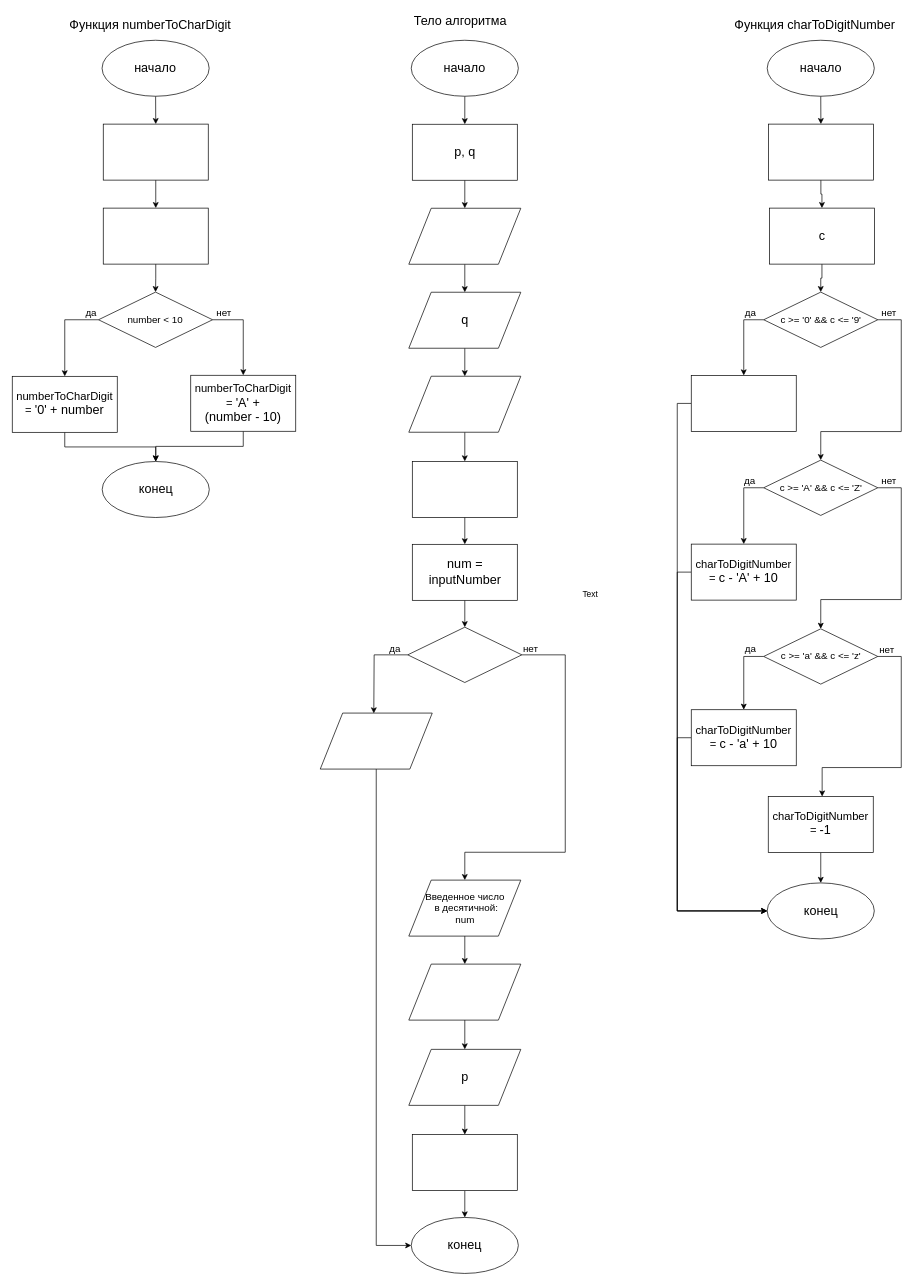
This 921x1286 diagram has some shape labels left out. Here are the shapes that lost their labels. From the top down, the centre of each, then its label:
the point at 155,151: numberToCharDigit
the point at 820,151: charToDigitNumber
the point at 155,235: number
the point at 464,236: Введите основание исходной системы счисления:
the point at 464,404: Введите число:
the point at 743,403: charToDigitNumber = c - '0'
the point at 464,489: num
the point at 464,654: num == -1
the point at 376,740: Некорректный ввод числа
the point at 464,991: Введите основание целевой системы счисления:
the point at 464,1162: outputNumber
